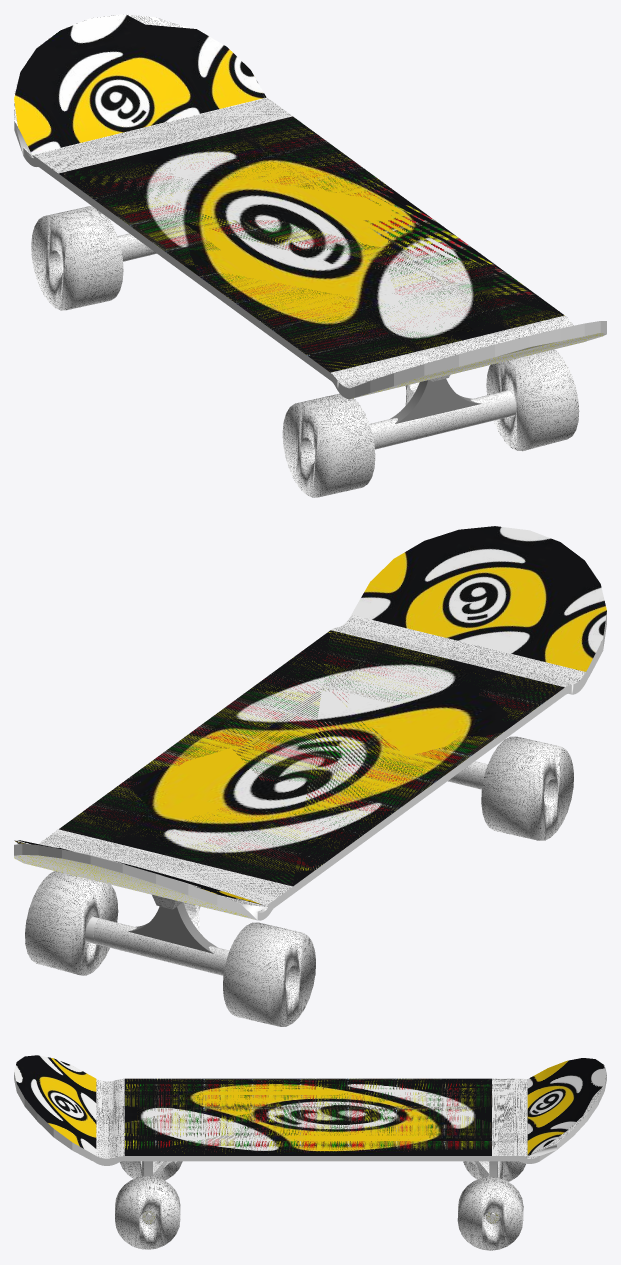
The picture shows the model from 3 angles, top to bottom: view 1: azimuth 30°, elevation 25°; view 2: azimuth 150°, elevation 25°; view 3: azimuth 270°, elevation 25°; orthographic projection. The views are drawn at different scales.
Parts seen in each view (by area): view 1: mesh1_mesh1-geometry, mesh8_mesh8-geometry, mesh5_mesh5-geometry, mesh7_mesh7-geometry, mesh4_mesh4-geometry, mesh2_mesh2-geometry; view 2: mesh1_mesh1-geometry, mesh5_mesh5-geometry, mesh8_mesh8-geometry, mesh3_mesh3-geometry, mesh2_mesh2-geometry, mesh4_mesh4-geometry; view 3: mesh1_mesh1-geometry, mesh3_mesh3-geometry, mesh7_mesh7-geometry, mesh5_mesh5-geometry, mesh2_mesh2-geometry, mesh8_mesh8-geometry, mesh4_mesh4-geometry.
Part boxes in pixels (box(x1,y1,x2,y2)): mesh1_mesh1-geometry: box(14, 14, 606, 399); mesh8_mesh8-geometry: box(282, 393, 375, 497); mesh5_mesh5-geometry: box(31, 206, 123, 310); mesh7_mesh7-geometry: box(486, 349, 579, 451); mesh4_mesh4-geometry: box(369, 374, 516, 449); mesh2_mesh2-geometry: box(60, 233, 156, 271); mesh1_mesh1-geometry: box(14, 526, 606, 920); mesh5_mesh5-geometry: box(223, 922, 315, 1026); mesh8_mesh8-geometry: box(481, 736, 573, 840); mesh3_mesh3-geometry: box(25, 871, 118, 975); mesh2_mesh2-geometry: box(85, 894, 288, 986); mesh4_mesh4-geometry: box(448, 761, 487, 789); mesh1_mesh1-geometry: box(14, 1055, 606, 1165); mesh3_mesh3-geometry: box(457, 1177, 523, 1250); mesh7_mesh7-geometry: box(115, 1176, 180, 1249); mesh5_mesh5-geometry: box(463, 1161, 525, 1181); mesh2_mesh2-geometry: box(465, 1161, 500, 1225); mesh8_mesh8-geometry: box(120, 1161, 182, 1180); mesh4_mesh4-geometry: box(141, 1161, 176, 1225).
Bounding box in the file's own units: 0.3042 × 0.2371 × 0.9226.
Materials: 17 (2 with a texture image).
